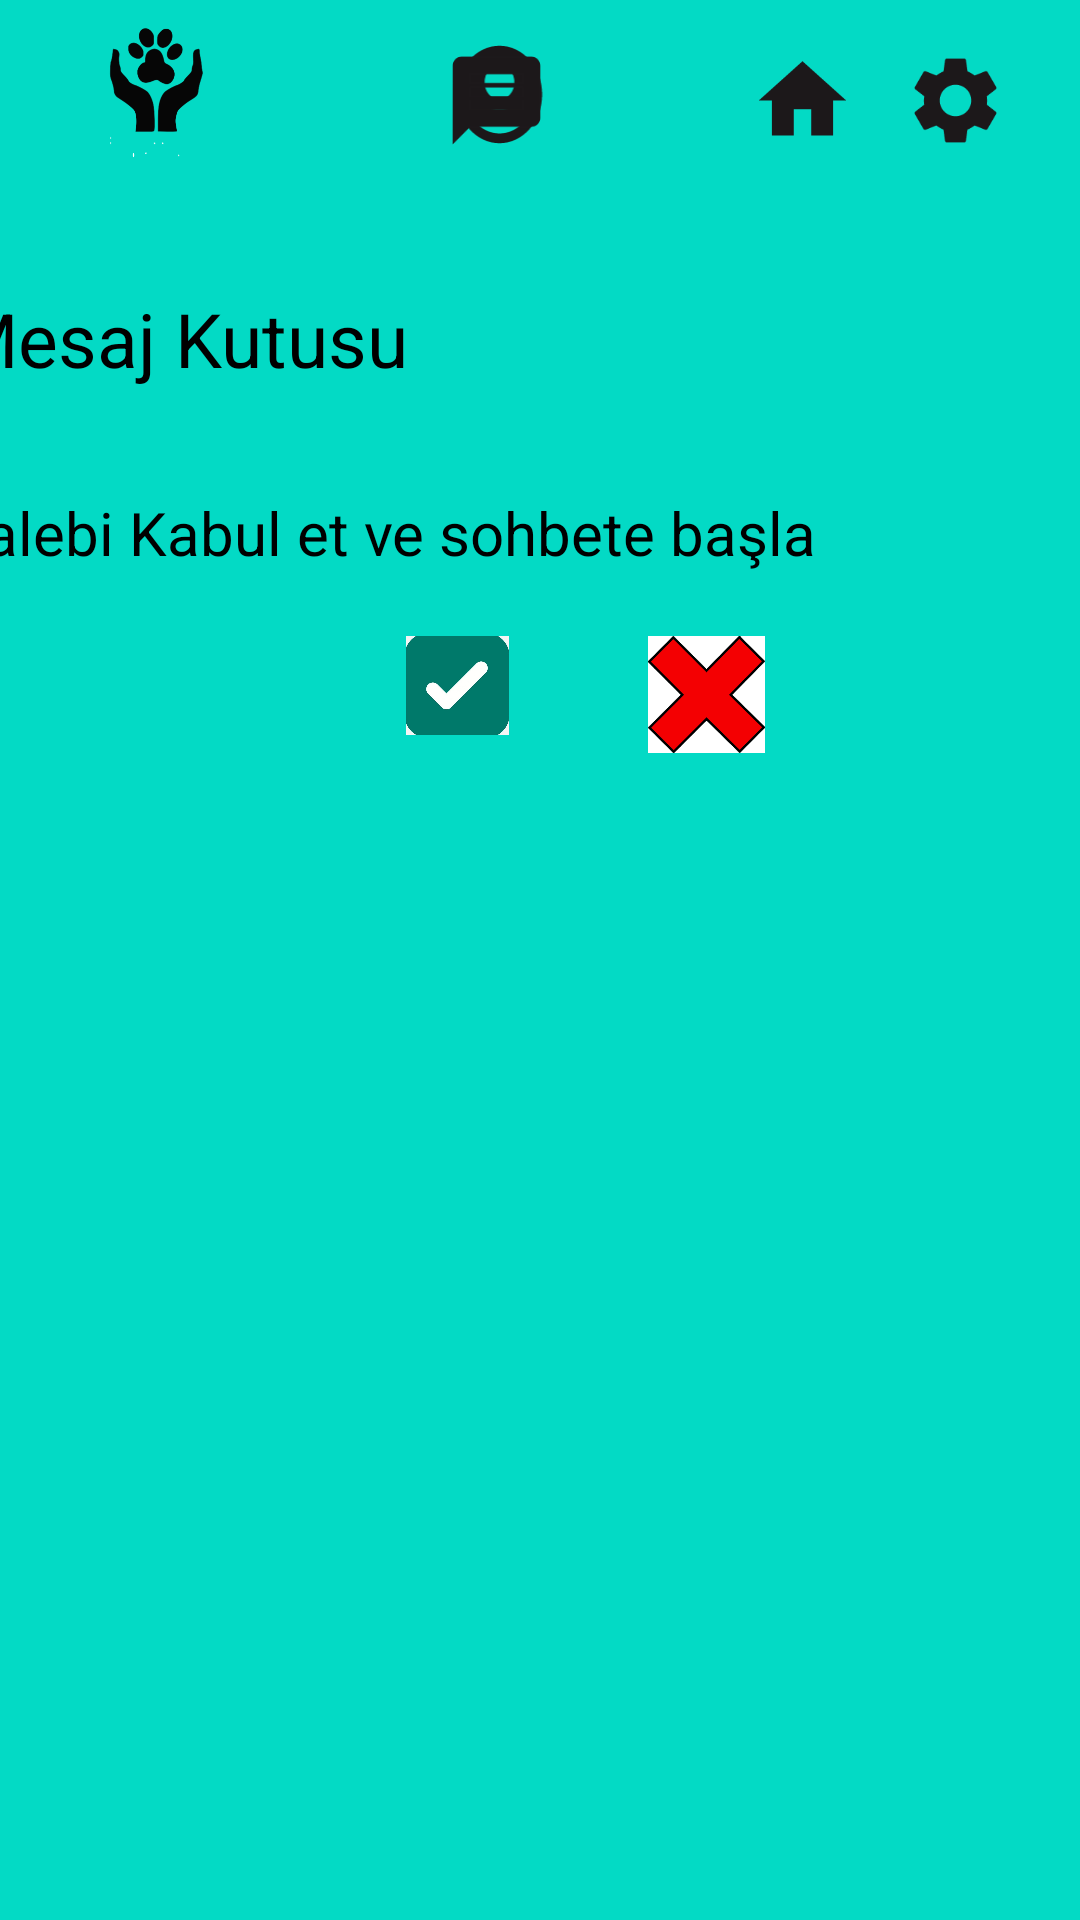

Locate icon controls on the screen. Image size 1080px×1920px, boxes as bbox(x1, y1, x2, y2).
carpi: bbox(648, 636, 765, 753)
home: bbox(759, 61, 846, 136)
settings: bbox(914, 58, 997, 143)
tick: bbox(406, 636, 509, 735)
